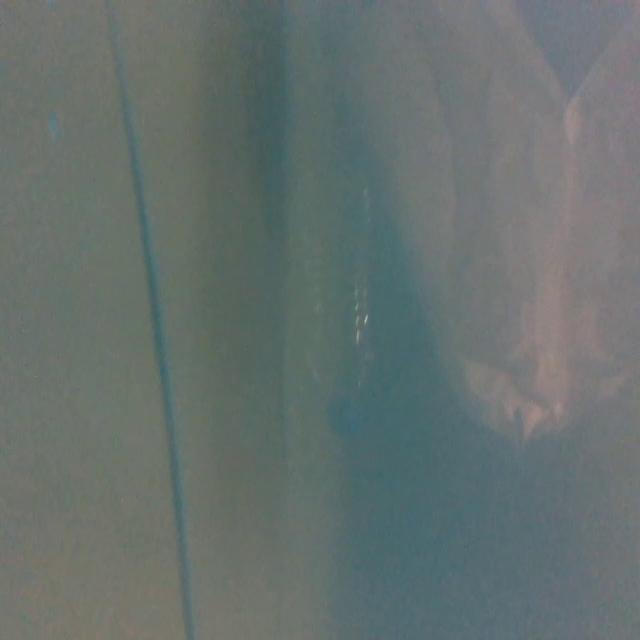plastic bags: (343, 0, 640, 448)
plastic bottle: (306, 165, 376, 439)
